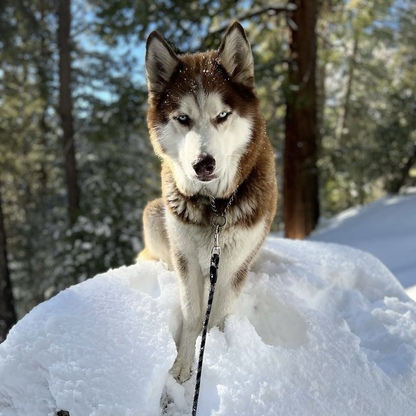husky: (131, 20, 287, 392)
